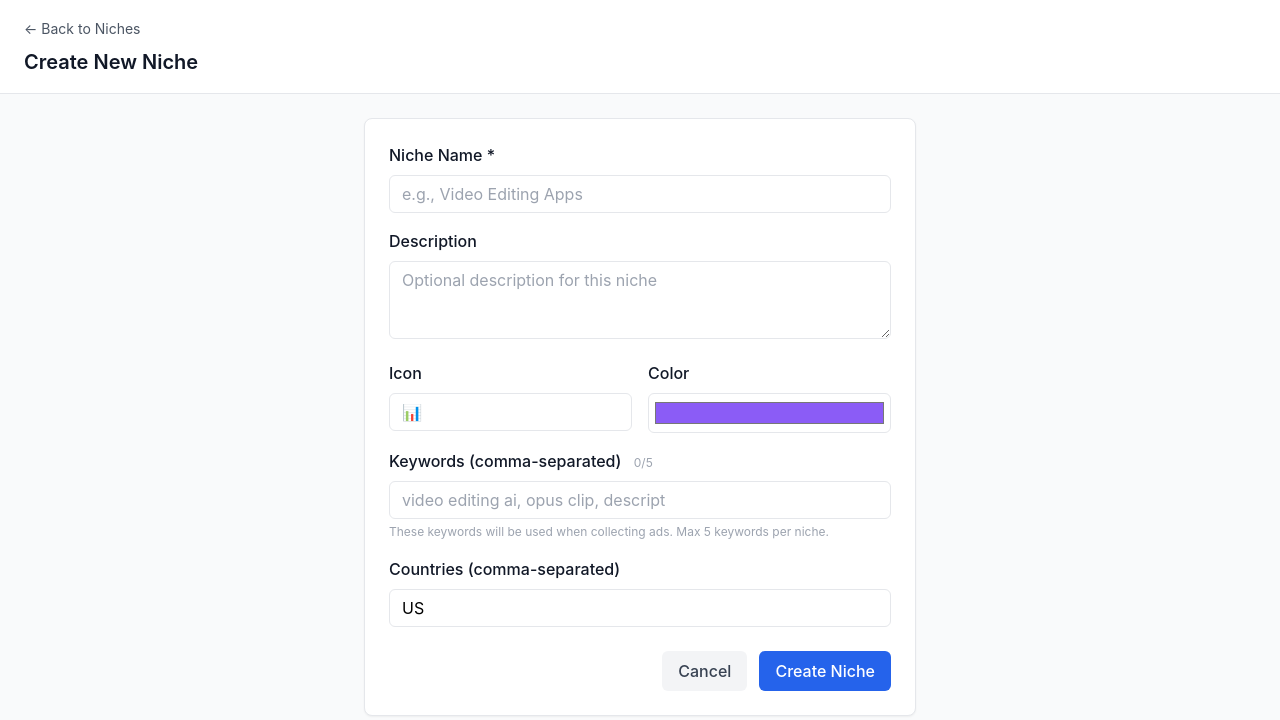
it: CreateNicheView — keyword counter › submit button is disabled when count > 5
Step 1. Type "kw1, kw2, kw3, kw4, kw5, kw6" into the field with id "keywords" → (640, 500), box [389,481,891,519]
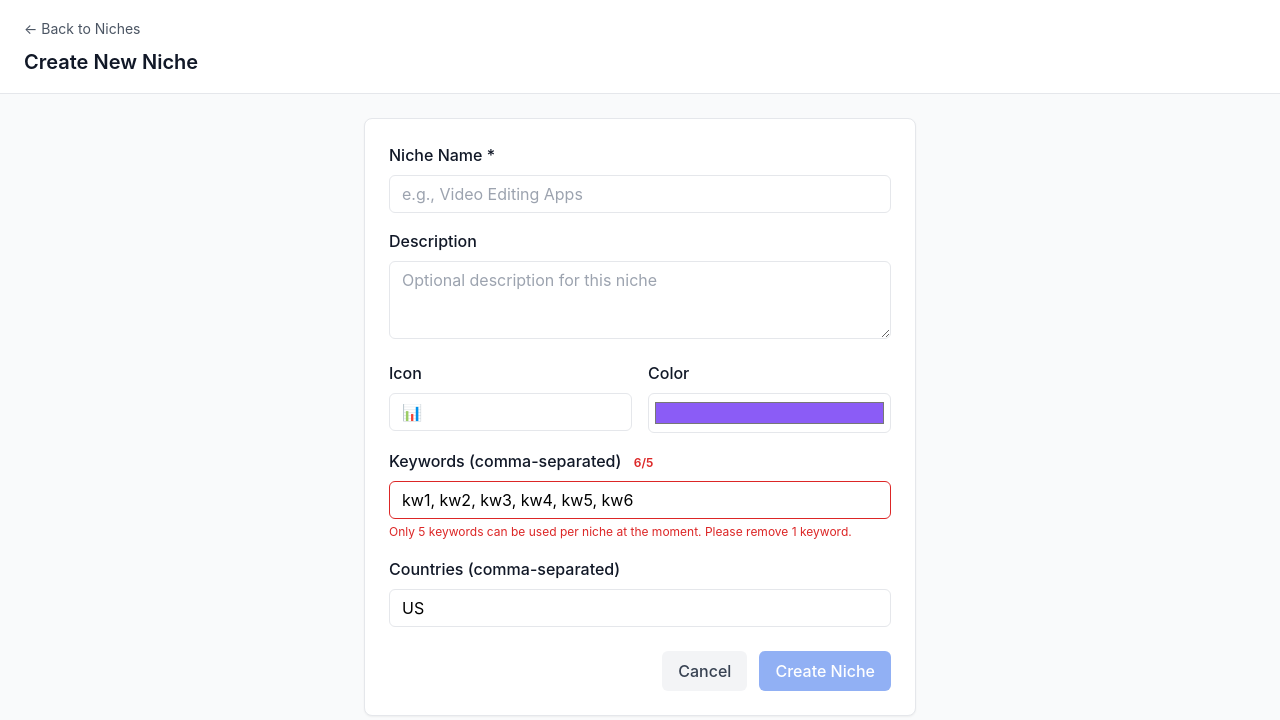
Check: the submit button is disabled, box [759,651,891,691]
